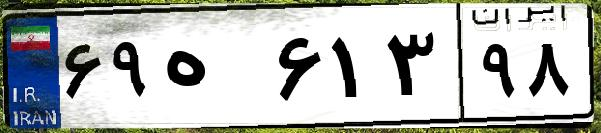1: (330, 28, 385, 110)
3: (385, 28, 445, 110)
6: (270, 28, 330, 110), (57, 26, 110, 100)
8: (525, 38, 570, 115)
9: (475, 38, 525, 113), (110, 28, 158, 98)
ه: (158, 20, 270, 120)
